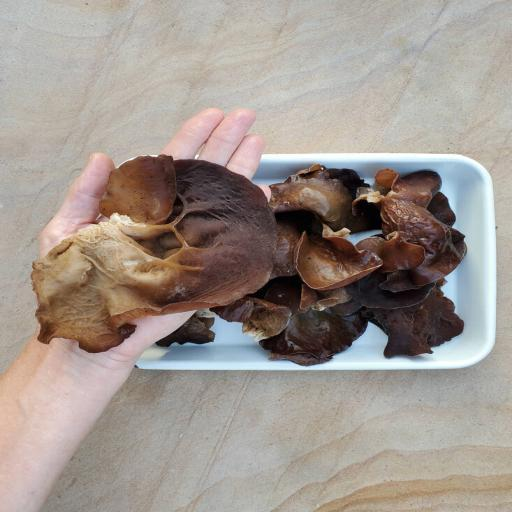mushroom: (25, 154, 276, 354), (357, 266, 462, 365), (264, 284, 363, 374), (359, 174, 466, 246), (289, 226, 378, 299), (271, 161, 360, 233)
